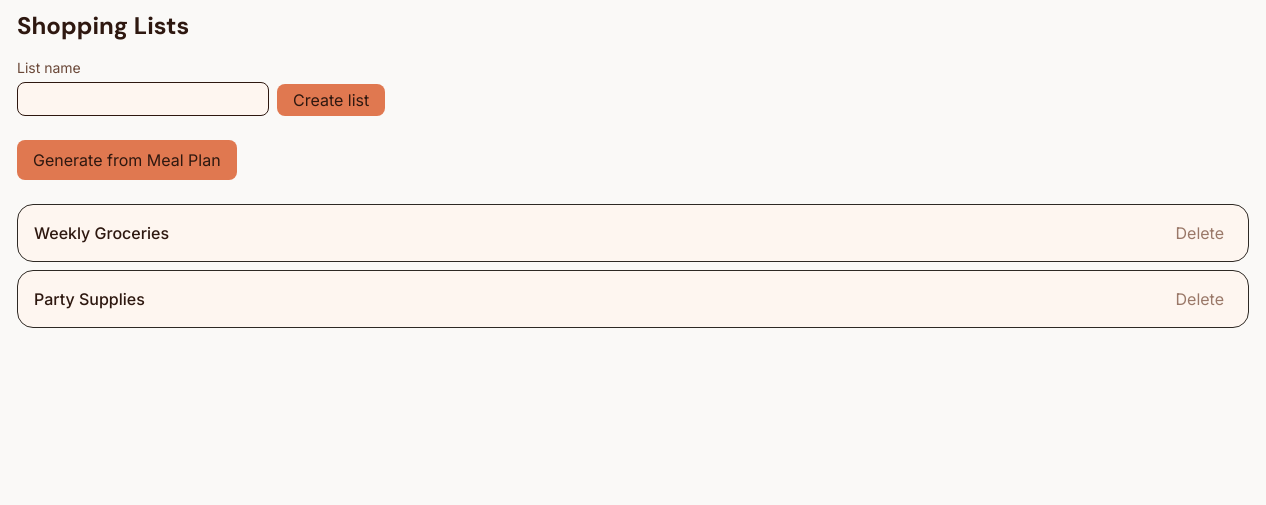
Test: ShoppingListPage › Generate from Meal Plan › should show helpful message when meal plan has no recipes
Expected: the button "Weekly Groceries" is shown, left=34, top=221, right=169, bottom=245
Click the button "Generate from Meal Plan" at (127, 160), box left=17, top=140, right=237, bottom=180
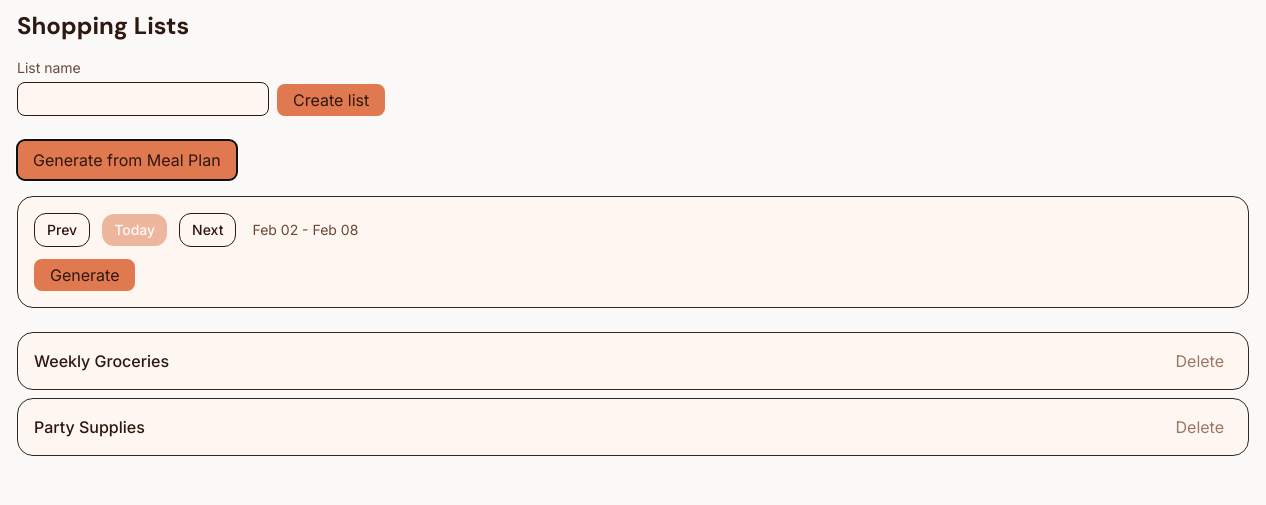
Now the button "Generate" is shown
Click the button "Generate" at (85, 275), box left=34, top=259, right=136, bottom=291
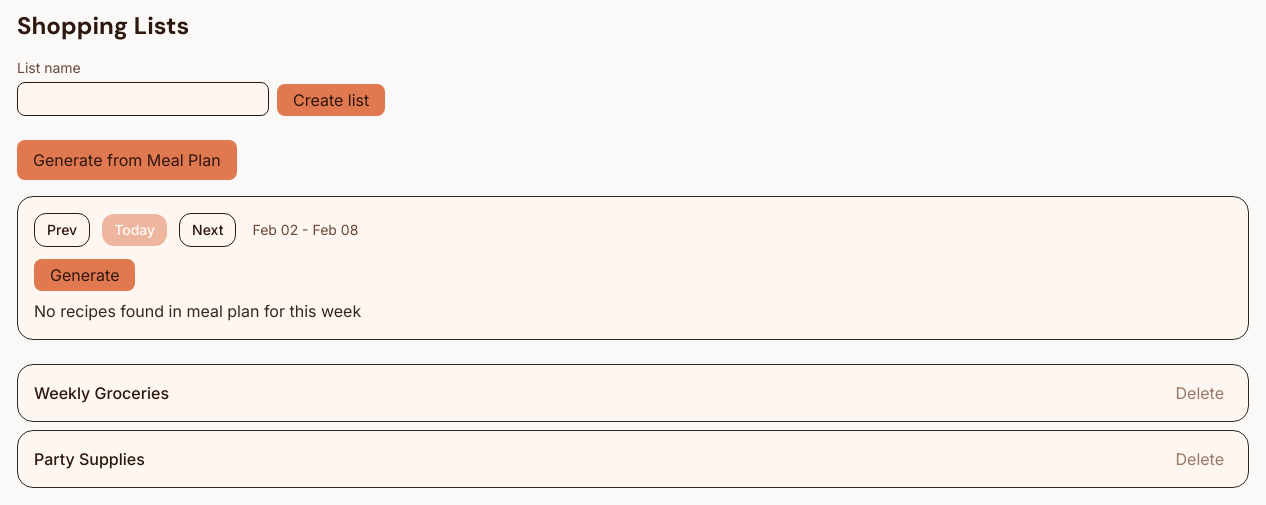
Now the text "No recipes found in meal plan for this week" is shown, box left=34, top=301, right=361, bottom=321
